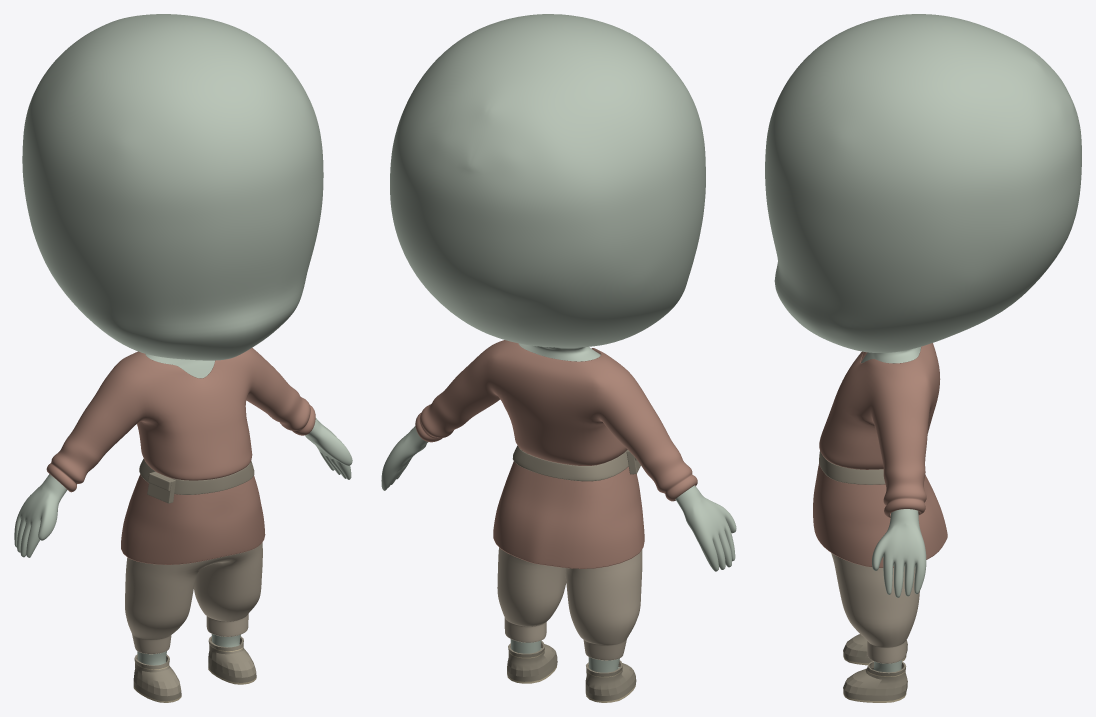
Rendered from Green.fbx.
3 views of the same model, side by side, from view 1: azimuth 30°, elevation 25°; view 2: azimuth 150°, elevation 25°; view 3: azimuth 270°, elevation 25° (orthographic). The views are drawn at different scales.
Visible parts, largest first — view 1: polySurface1; view 2: polySurface1; view 3: polySurface1.
Part boxes in pixels (box(x1,y1,x2,y2)): polySurface1: box(14, 14, 352, 702); polySurface1: box(381, 14, 736, 702); polySurface1: box(765, 14, 1081, 702).
Bounding box in the file's own units: 3.41 × 6.33 × 2.82.
